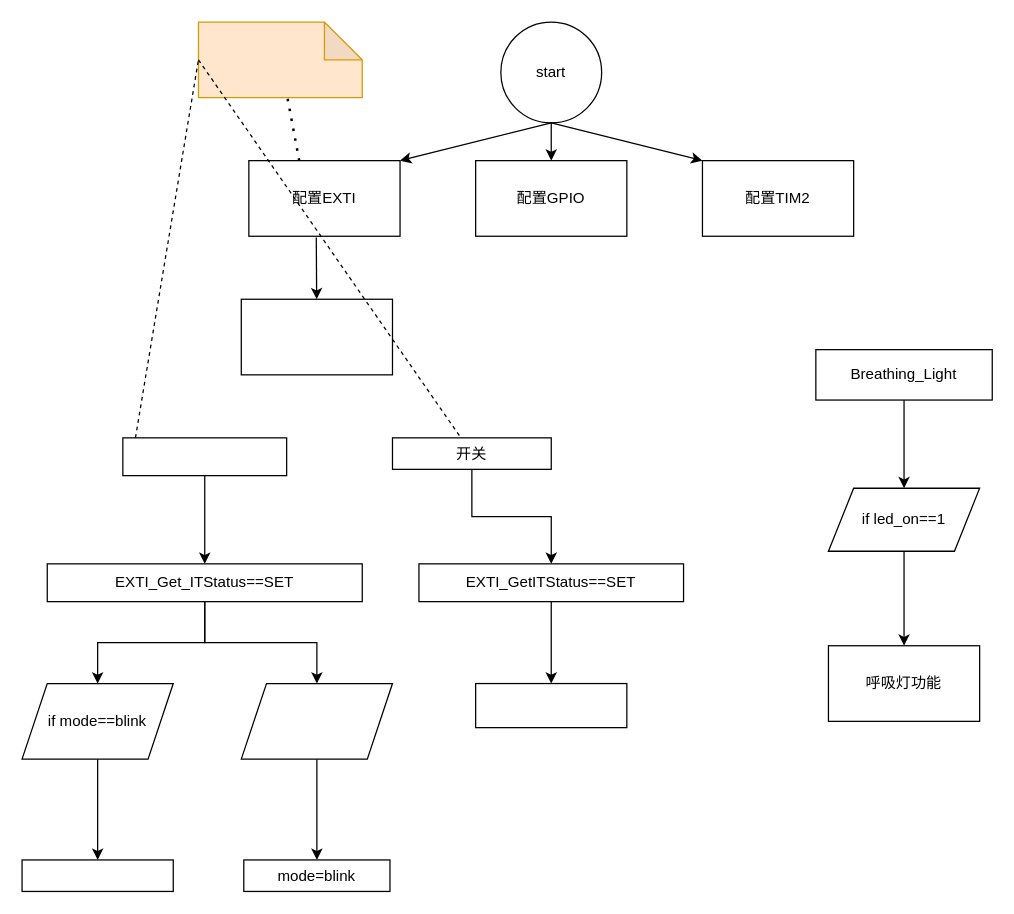
This 1014x914 diagram has some shape labels left out. Here are the shapes that lost their labels. From the top down, the box of each, then its label:
(197, 21, 362, 98): 由按键触发，进入中断函数
(240, 298, 392, 375): 配置NVIC
(122, 437, 287, 476): 模式切换
(240, 682, 392, 759): if mode==breath
(474, 682, 627, 728): led_on=!led_on
(21, 859, 173, 891): mode=breath
